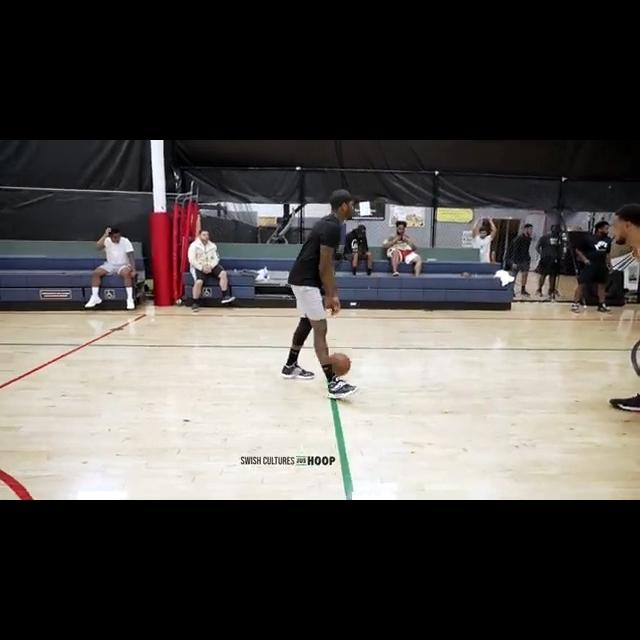basketball: (328, 352, 353, 376)
person: (279, 191, 362, 398), (605, 210, 640, 412), (86, 222, 137, 312), (569, 219, 614, 314), (189, 230, 239, 314), (382, 221, 425, 278), (536, 225, 566, 302), (511, 222, 536, 301), (345, 222, 373, 277), (471, 211, 495, 266)
